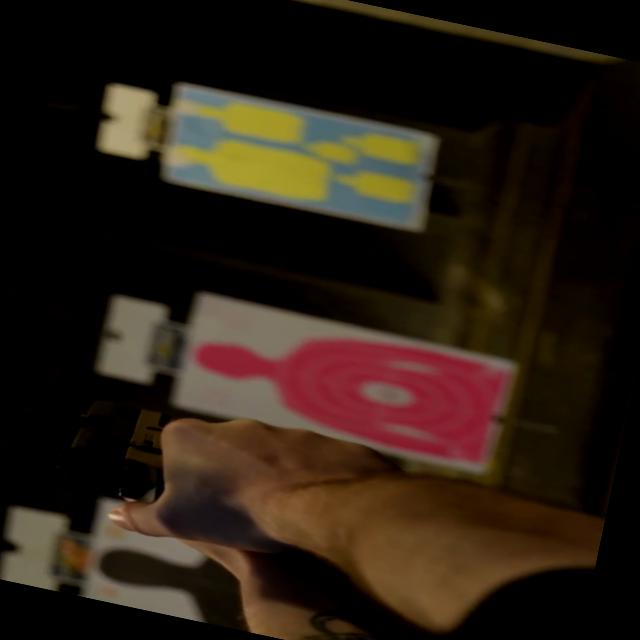handgun: (22, 372, 234, 524)
